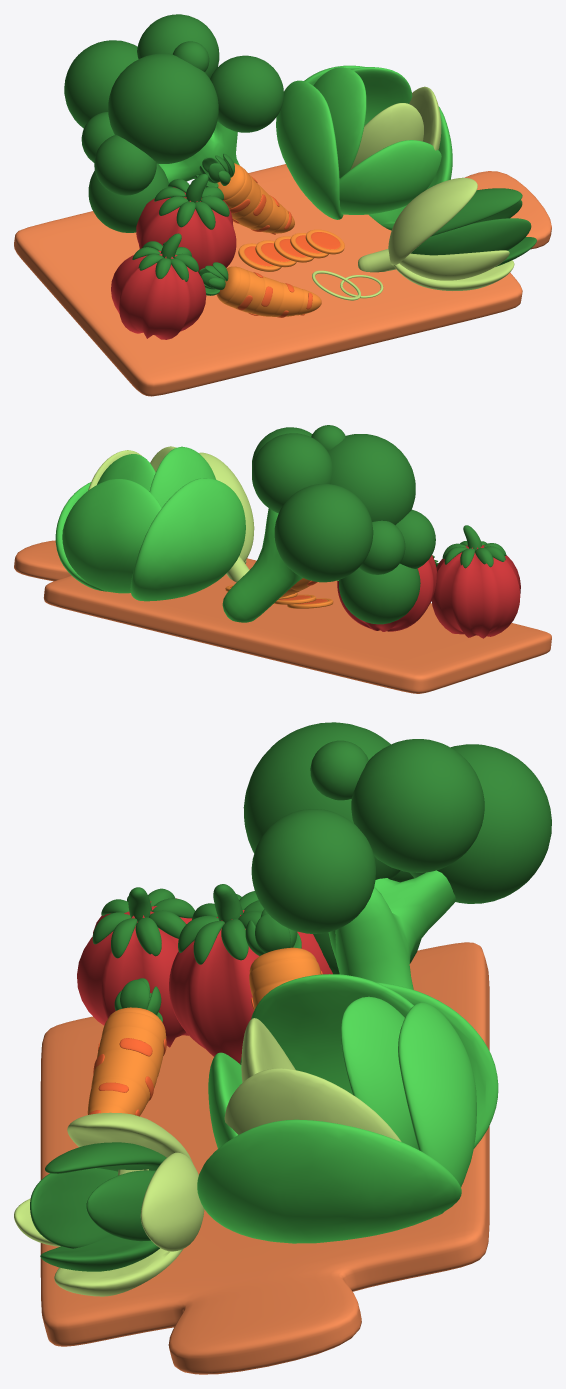
File: food-preparation-3d-animated-icon-670745909926.glb
The picture shows the model from 3 angles, top to bottom: view 1: azimuth 30°, elevation 25°; view 2: azimuth 150°, elevation 25°; view 3: azimuth 270°, elevation 25°; orthographic projection. The views are drawn at different scales.
Parts seen in each view (by area): view 1: Chopping Board, Cube, Sphere.026, Cube.003, Sphere.004, Sphere.001, Cube.001, Cube.006, Cylinder.003, Cylinder.005, Cylinder.006, Cylinder.002 (+1 smaller); view 2: Cube, Chopping Board, Sphere.026, Sphere.004, Cube.003, Sphere.001; view 3: Sphere.026, Chopping Board, Cube, Cube.003, Sphere.001, Sphere.004, Cube.001, Cube.006.
Boxes of the visible parts, <box> form: Chopping Board: <box>14,164,551,396</box>; Cube: <box>64,14,283,232</box>; Sphere.026: <box>276,65,452,230</box>; Cube.003: <box>358,177,536,290</box>; Sphere.004: <box>111,233,206,339</box>; Sphere.001: <box>136,173,236,276</box>; Cube.001: <box>199,262,321,317</box>; Cube.006: <box>195,153,294,234</box>; Cylinder.003: <box>305,229,344,254</box>; Cylinder.005: <box>255,240,296,267</box>; Cylinder.006: <box>238,243,281,271</box>; Cylinder.002: <box>274,236,313,262</box>; Cube: <box>222,425,435,624</box>; Chopping Board: <box>14,540,551,693</box>; Sphere.026: <box>55,446,245,601</box>; Sphere.004: <box>431,525,520,638</box>; Cube.003: <box>199,452,254,582</box>; Sphere.001: <box>337,555,436,631</box>; Sphere.026: <box>197,974,498,1243</box>; Chopping Board: <box>40,942,489,1374</box>; Cube: <box>243,722,551,989</box>; Cube.003: <box>14,1112,204,1296</box>; Sphere.001: <box>169,884,332,1063</box>; Sphere.004: <box>77,887,194,1047</box>; Cube.001: <box>87,978,166,1116</box>; Cube.006: <box>245,909,322,1010</box>.
Size of the model in its own units: 2.95 by 1.61 by 1.85.
